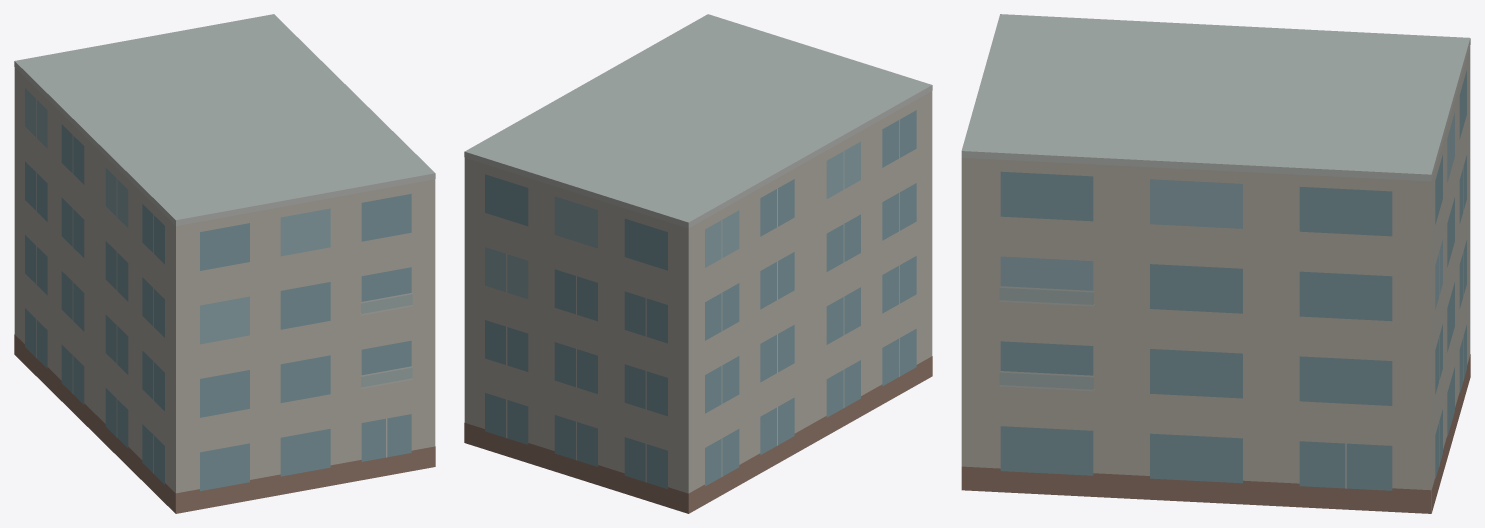
The model's file is residential-d8dd1f42-eda2-4d7c-a461-7873b2b79064.glb.
3 renders of one model, left to right at view 1: azimuth 30°, elevation 25°; view 2: azimuth 150°, elevation 25°; view 3: azimuth 270°, elevation 25°, orthographic. The views are drawn at different scales.
Parts seen in each view (by area): view 1: residential-d8dd1f42-eda2-4d7c-a461-7873b2b79064.tmp; view 2: residential-d8dd1f42-eda2-4d7c-a461-7873b2b79064.tmp; view 3: residential-d8dd1f42-eda2-4d7c-a461-7873b2b79064.tmp.
Part boxes in pixels (x1,y1,x2,y2): residential-d8dd1f42-eda2-4d7c-a461-7873b2b79064.tmp: [14, 14, 435, 513]; residential-d8dd1f42-eda2-4d7c-a461-7873b2b79064.tmp: [464, 14, 932, 513]; residential-d8dd1f42-eda2-4d7c-a461-7873b2b79064.tmp: [961, 14, 1470, 513].
Size of the model in its own units: 12.4 by 12.2 by 16.6.
